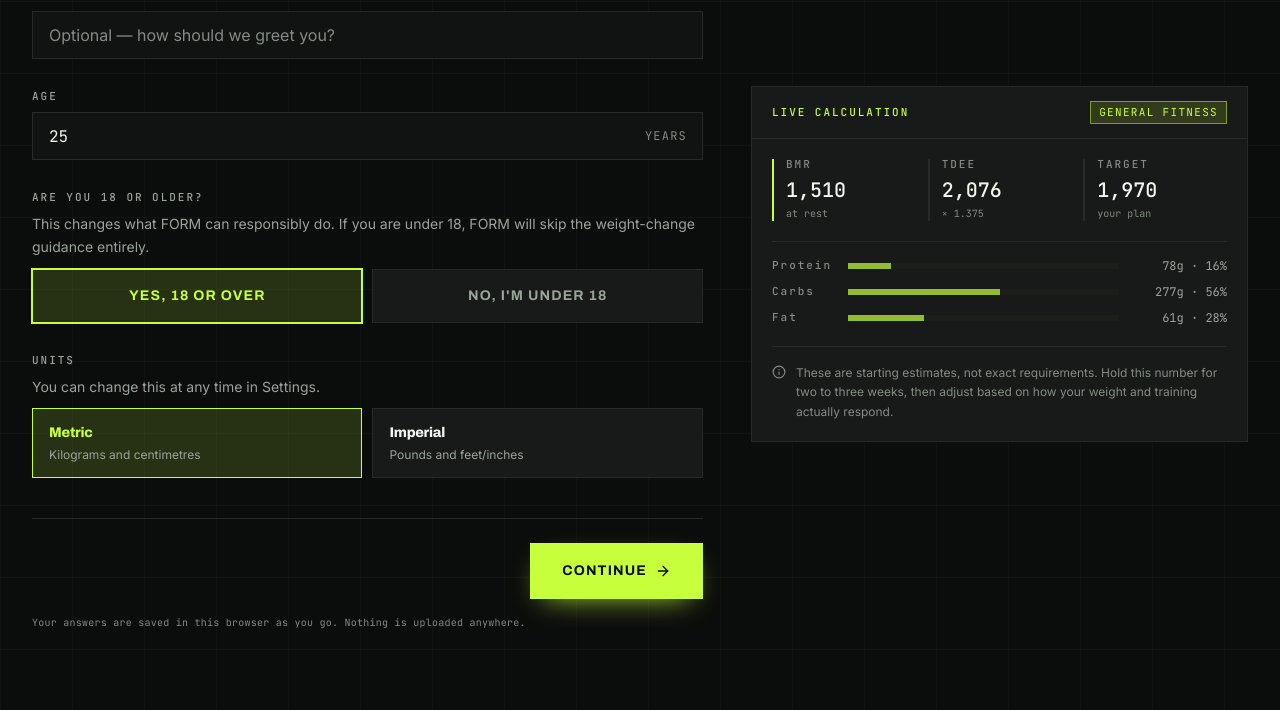
it: the body step › shows the height and weight it is going to use
(page scrolled)
Click the button "Continue" at (617, 571), box [530,543,703,599]
(page scrolled)
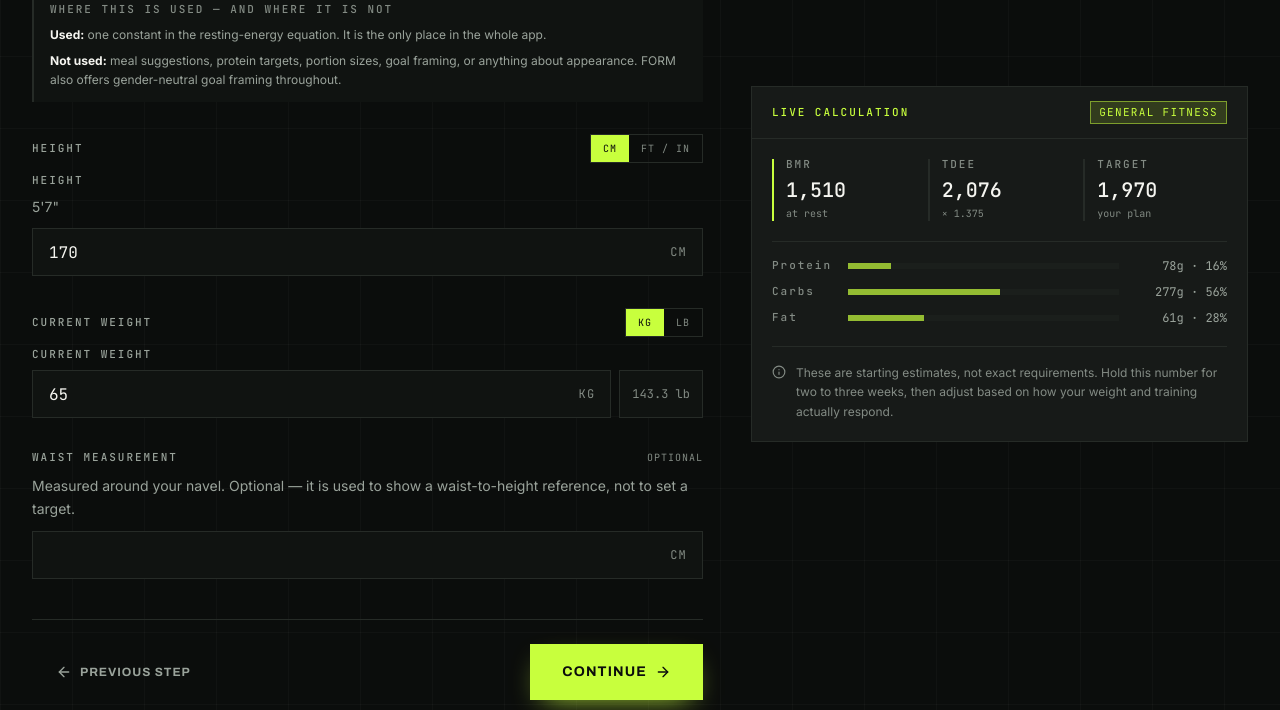
Result: the number field labelled "Height" holds "170" at [32,228,703,276]
Result: the number field labelled "Current weight" holds "65" at [32,370,611,418]
